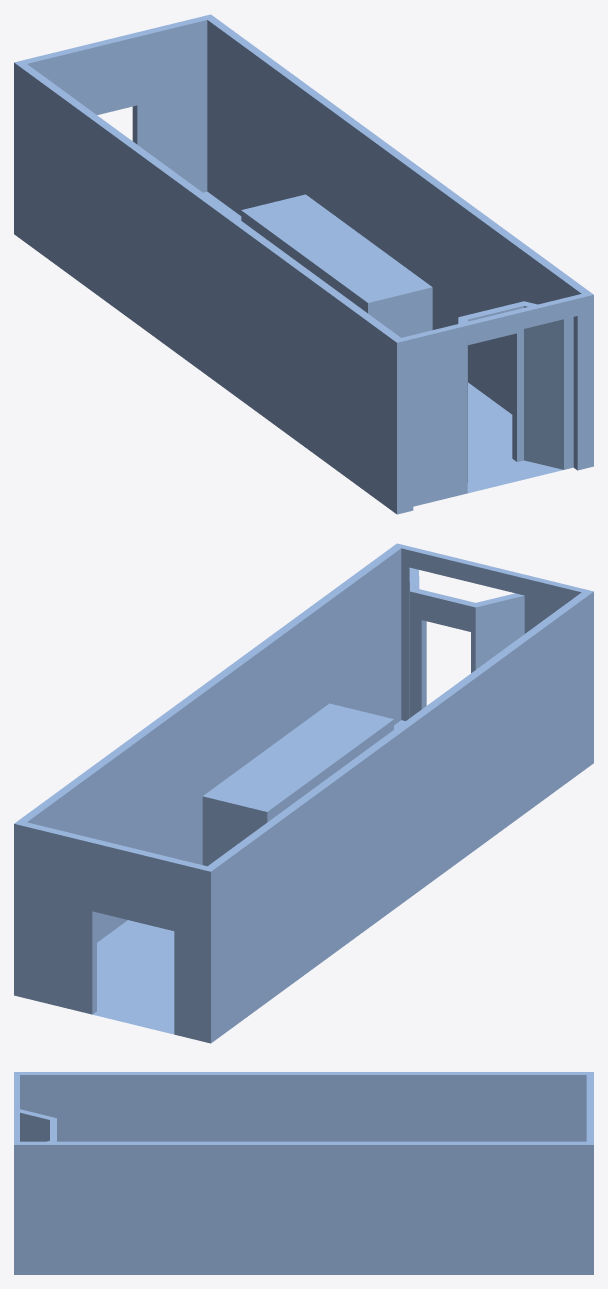
The picture shows the model from 3 angles, top to bottom: view 1: azimuth 30°, elevation 25°; view 2: azimuth 150°, elevation 25°; view 3: azimuth 270°, elevation 25°; orthographic projection. The views are drawn at different scales.
Visible parts, largest first — view 1: TamilArchive; view 2: TamilArchive; view 3: TamilArchive.
Part boxes in pixels (bbox=[...]): TamilArchive: bbox=[14, 14, 593, 514]; TamilArchive: bbox=[14, 543, 593, 1043]; TamilArchive: bbox=[14, 1072, 593, 1274].
Size of the model in its own units: 144 by 120 by 485.
